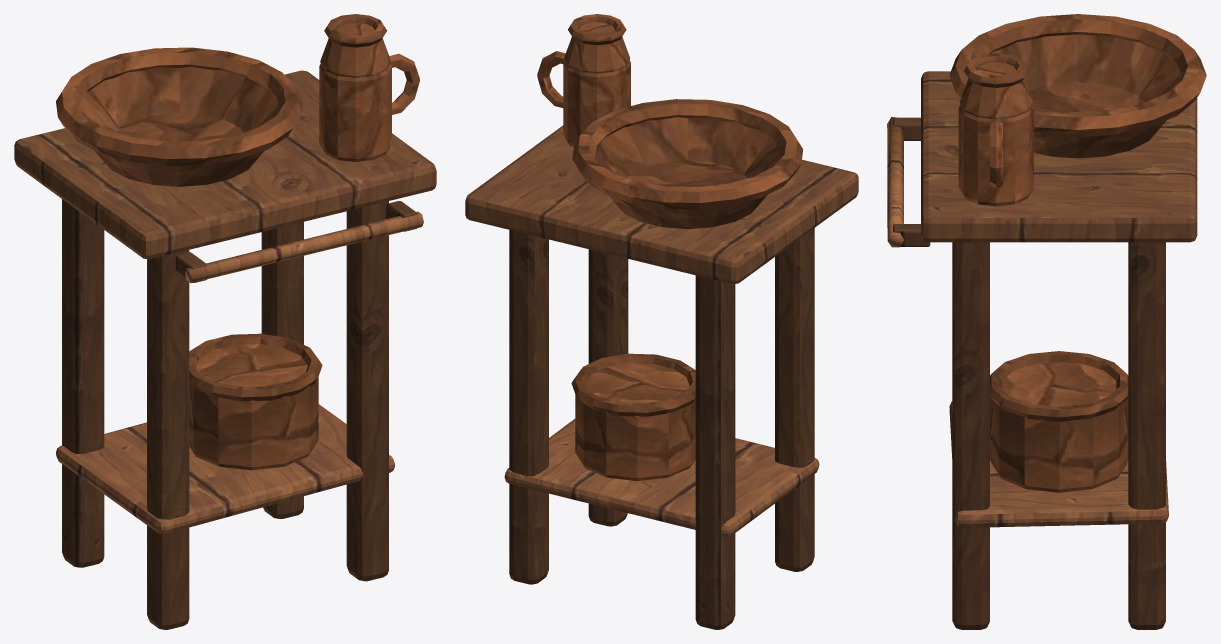
File: washbasin.glb
The picture shows the model from 3 angles, left to right: view 1: azimuth 30°, elevation 25°; view 2: azimuth 150°, elevation 25°; view 3: azimuth 270°, elevation 25°; orthographic projection. The views are drawn at different scales.
Visible parts, largest first — view 1: model; view 2: model; view 3: model.
Part boxes in pixels (x1,y1,x2,y2): model: [14, 14, 436, 629]; model: [465, 14, 858, 629]; model: [887, 14, 1206, 629].
Size of the model in its own units: 0.592 by 0.9837 by 0.5089.
7 materials, 7 textured.
